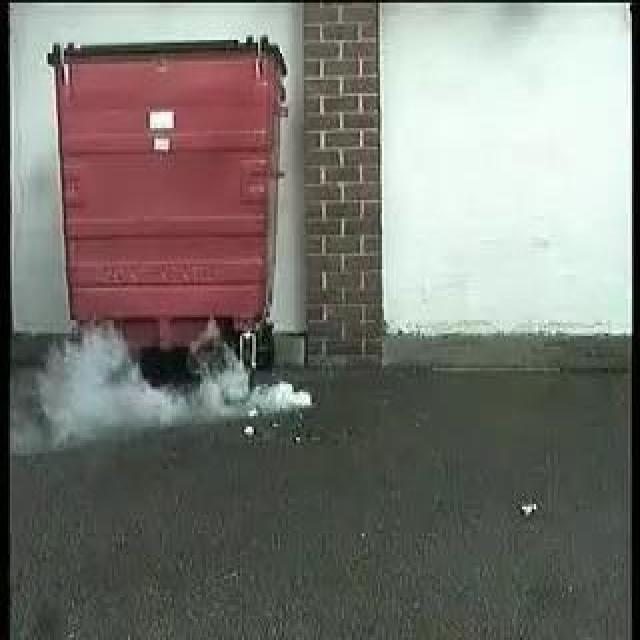Smoke: (38, 321, 314, 436)
